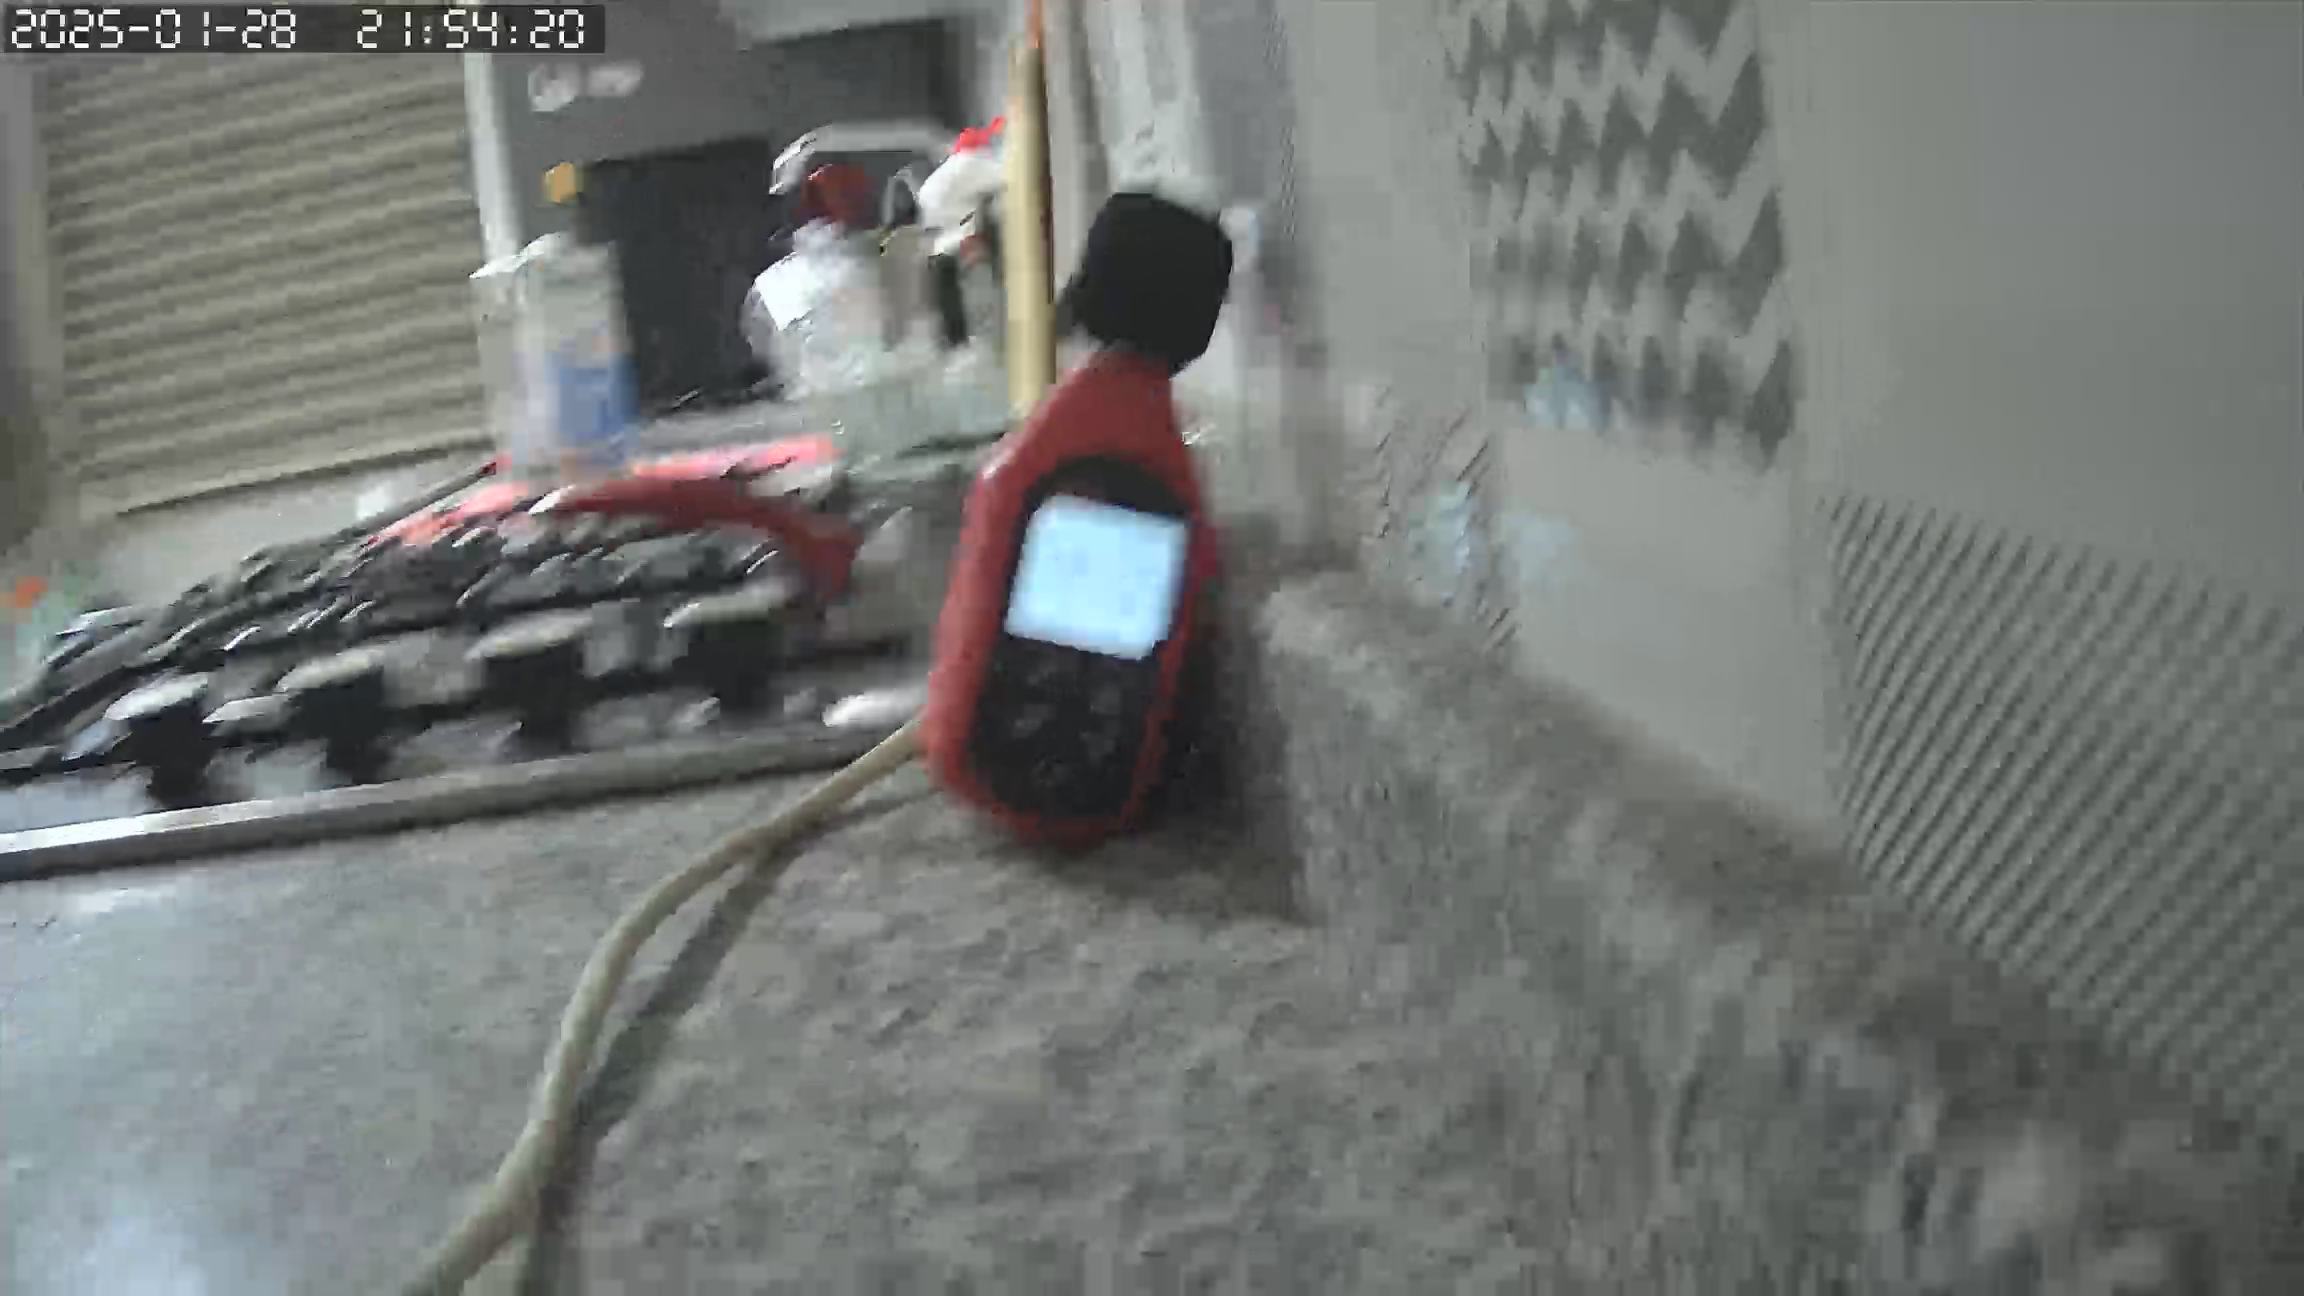screen: (1010, 494, 1184, 660)
